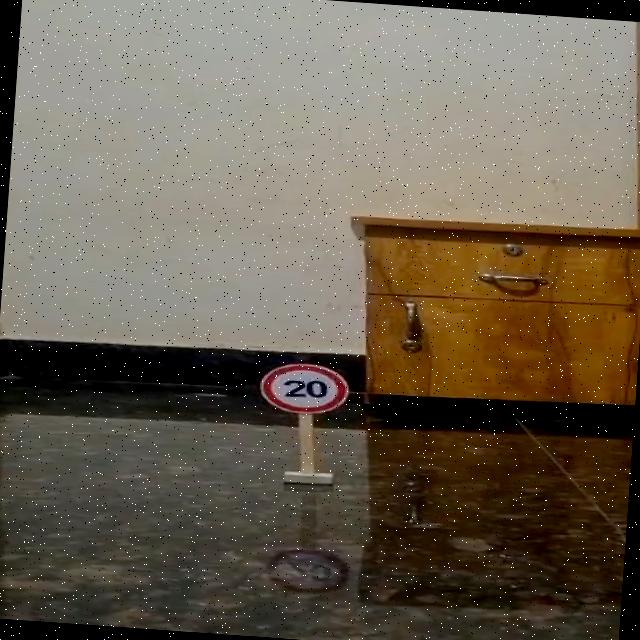Speed20: (246, 353, 356, 422)
